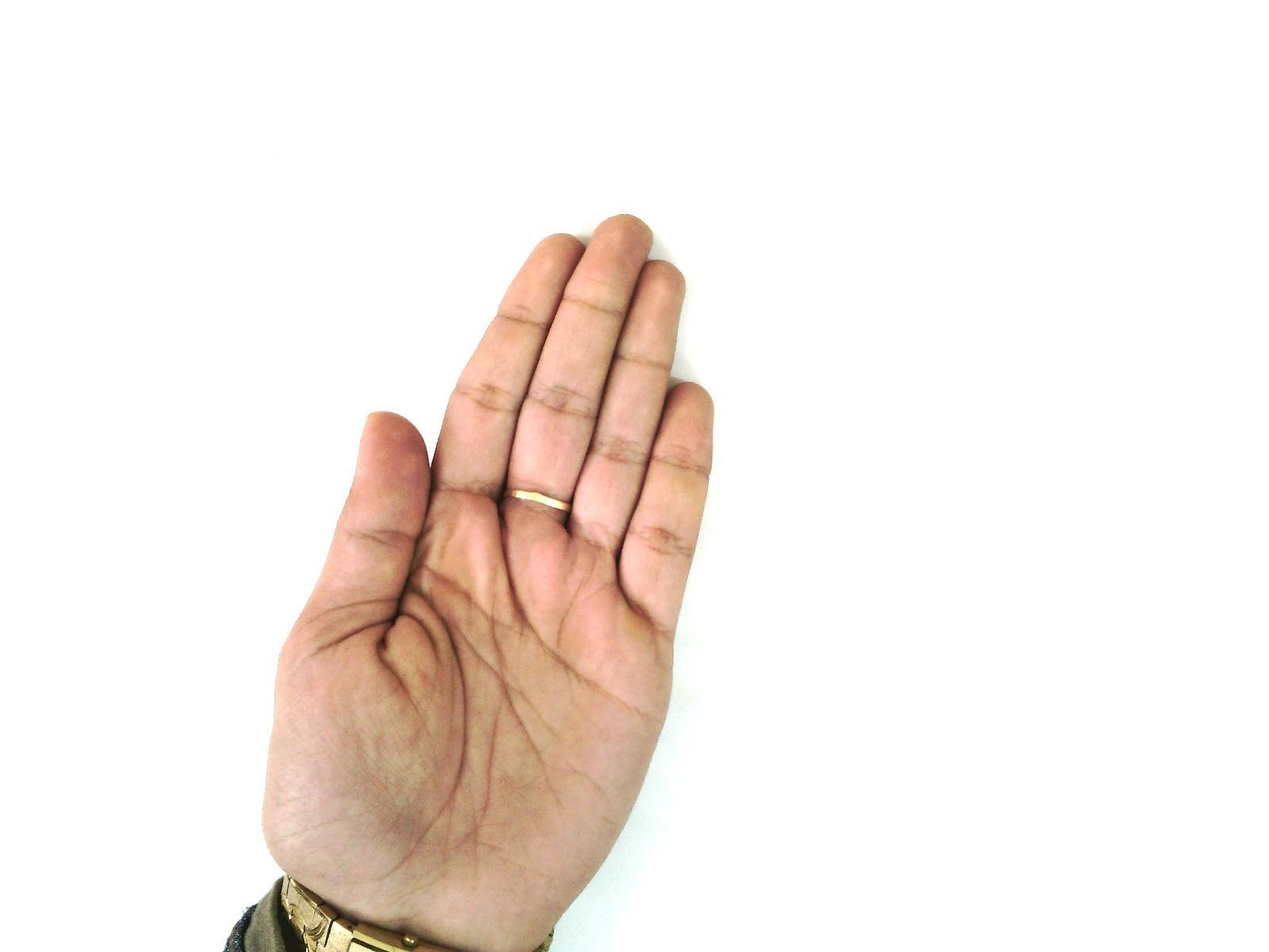open_palm: (259, 213, 718, 950)
